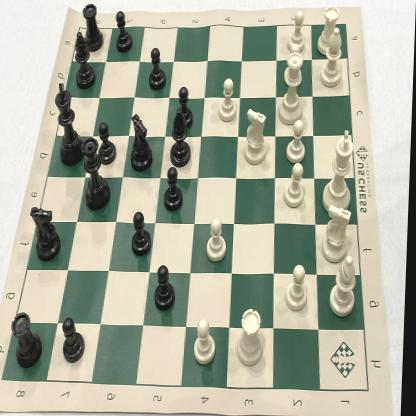black-bishop: (75, 34, 101, 91)
black-king: (53, 77, 87, 169)
black-knight: (29, 204, 67, 259), (132, 107, 159, 169), (169, 115, 198, 171)
black-pawn: (130, 207, 156, 259), (62, 312, 88, 362), (151, 260, 178, 307), (164, 168, 189, 217), (148, 47, 170, 90), (99, 122, 119, 166), (114, 14, 134, 54), (177, 86, 196, 126)
black-queen: (79, 146, 113, 215)
black-rook: (12, 306, 46, 370), (83, 7, 108, 51)
white-bishop: (332, 253, 365, 316), (317, 31, 348, 98)
white-king: (324, 133, 358, 213)
white-knight: (324, 200, 357, 266), (244, 105, 272, 168)
white-pawn: (281, 153, 310, 209), (197, 312, 226, 365), (279, 111, 306, 166), (203, 214, 231, 264), (284, 12, 309, 58), (286, 264, 310, 310), (219, 77, 240, 125), (284, 45, 303, 86)
white-queen: (276, 56, 308, 113)
white-rook: (236, 306, 269, 370), (315, 4, 346, 69)
